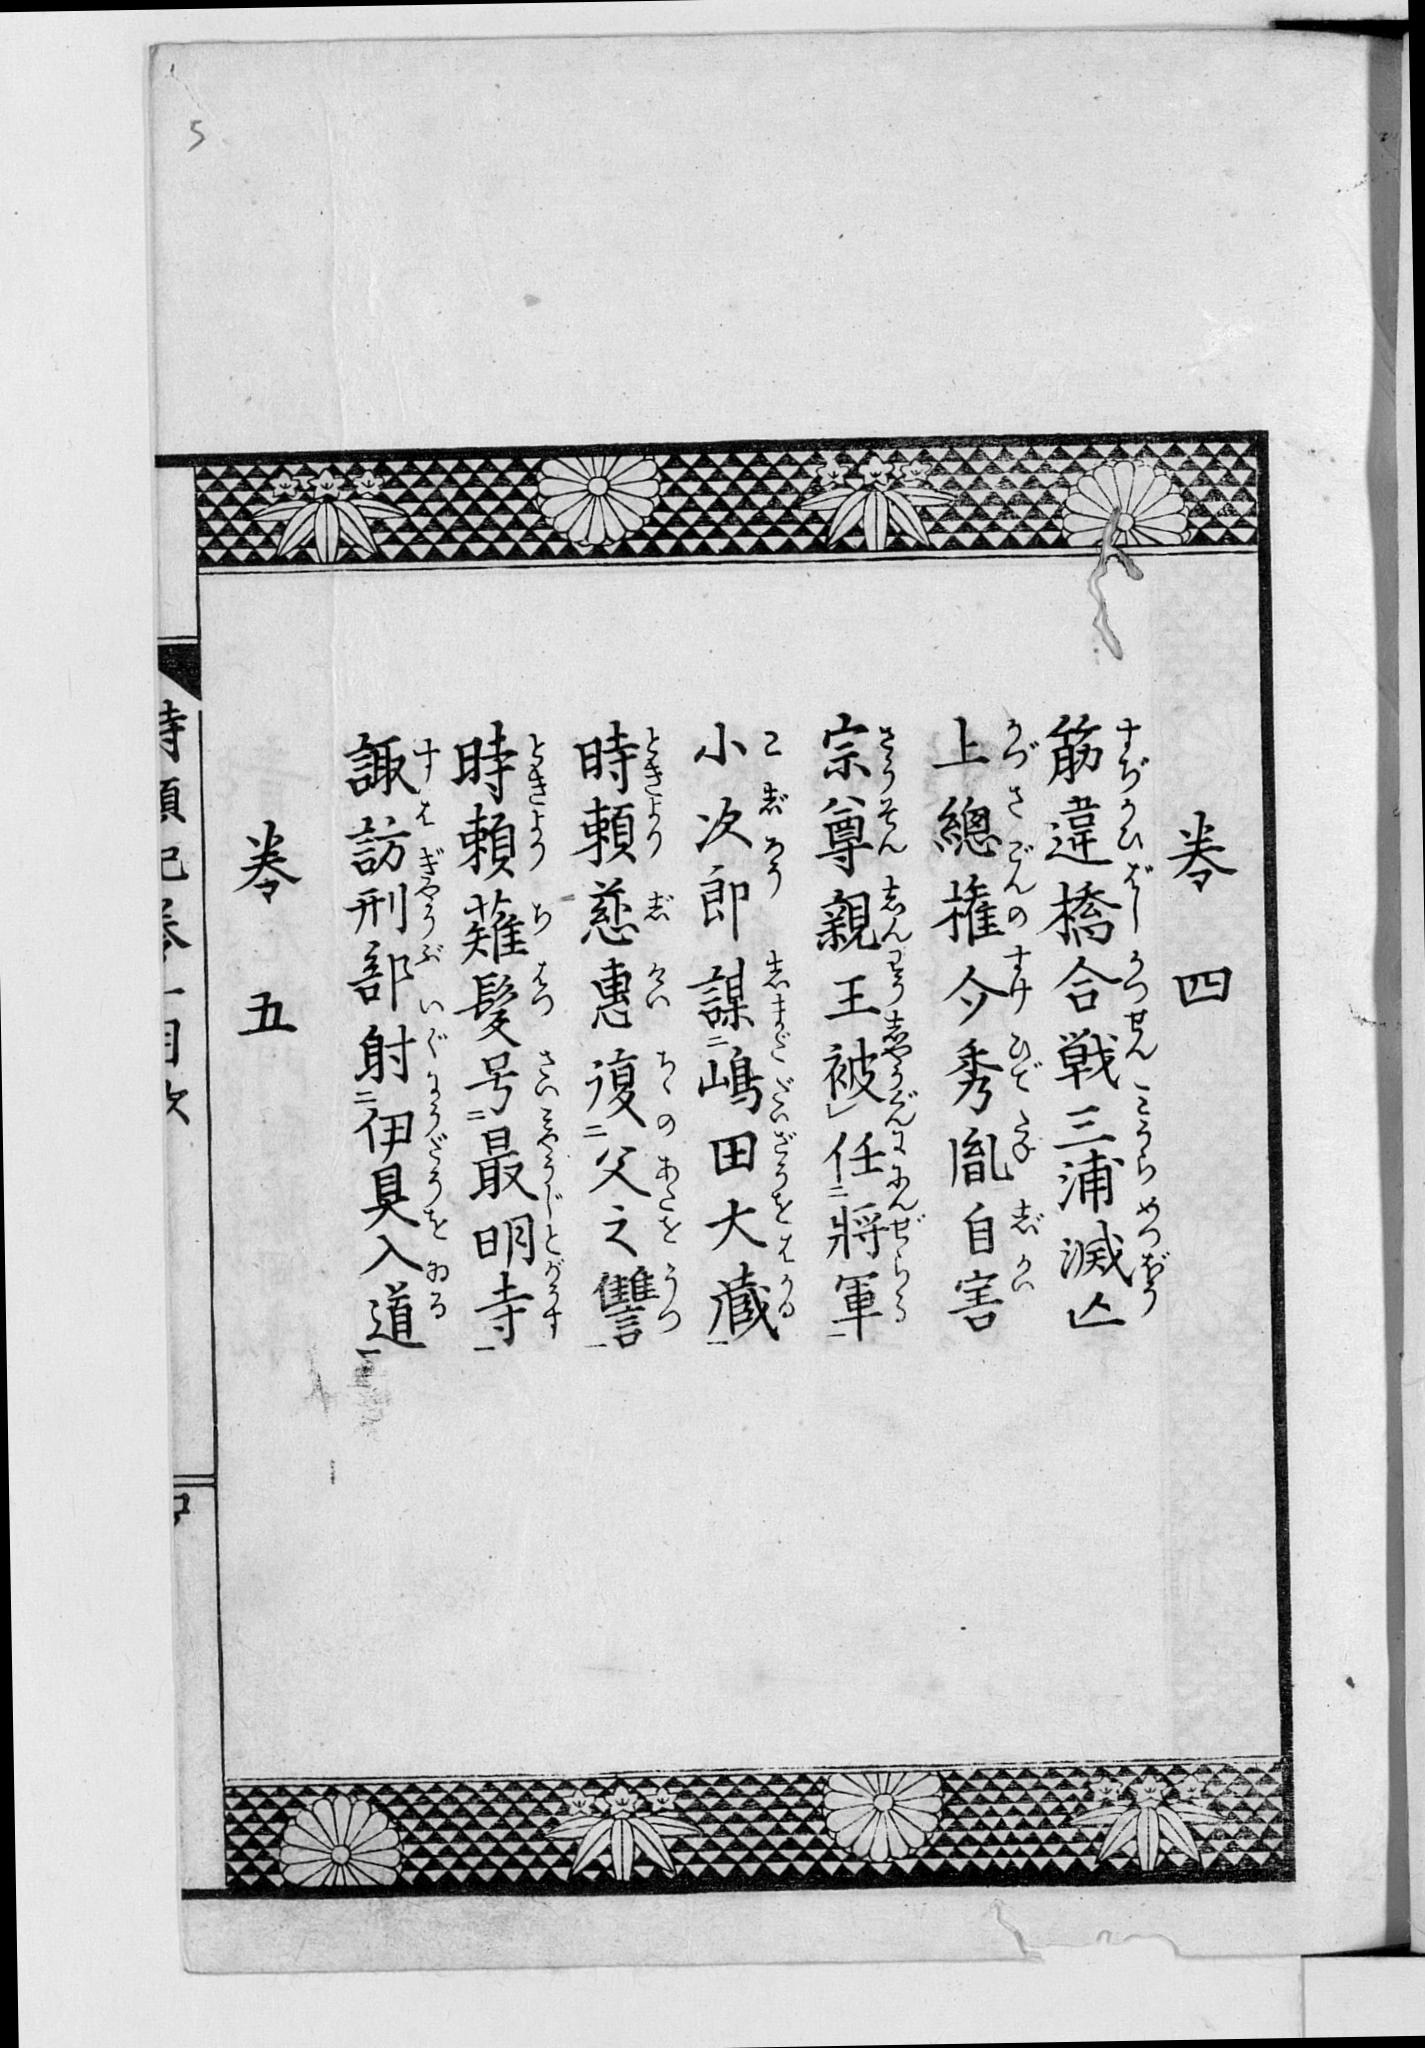MainZone-Character: (681, 949, 798, 1060), (677, 836, 795, 942), (456, 1106, 571, 1214), (823, 1012, 927, 1130), (930, 840, 1033, 942), (588, 1262, 695, 1357), (1039, 708, 1154, 795), (1041, 1010, 1164, 1091), (453, 963, 560, 1055), (695, 1259, 804, 1349), (1049, 1203, 1179, 1278), (678, 1049, 801, 1128), (585, 1046, 681, 1145), (468, 1257, 569, 1352), (1052, 1257, 1182, 1331), (1044, 867, 1157, 951), (820, 1127, 929, 1214), (801, 873, 916, 954), (937, 937, 1035, 1032), (451, 724, 557, 809), (450, 806, 557, 890), (688, 775, 798, 856), (1042, 1148, 1178, 1214), (811, 789, 915, 873), (1042, 1082, 1167, 1152), (342, 800, 450, 881), (944, 1029, 1045, 1114), (1042, 797, 1153, 873), (342, 945, 450, 1022), (949, 1253, 1044, 1340), (806, 711, 904, 795), (700, 1186, 804, 1264), (929, 781, 1036, 856), (571, 875, 675, 951), (1041, 948, 1159, 1015), (828, 1264, 918, 1351), (817, 948, 926, 1019), (569, 791, 669, 868), (568, 711, 667, 789), (580, 959, 675, 1040), (342, 725, 440, 803), (927, 710, 1039, 777), (454, 1050, 566, 1117), (356, 1164, 454, 1240), (350, 1027, 451, 1100), (817, 1201, 935, 1264), (585, 1144, 692, 1212), (457, 893, 562, 963), (944, 1186, 1044, 1256), (358, 1287, 454, 1359), (686, 1125, 797, 1187), (347, 1099, 456, 1161), (941, 1117, 1038, 1184), (347, 884, 450, 943), (692, 708, 789, 770), (464, 1214, 571, 1268), (353, 1233, 456, 1285), (593, 1200, 686, 1254)
MainZone-Ruby: (881, 1015, 918, 1125), (758, 954, 795, 1058), (999, 842, 1038, 929), (535, 1108, 566, 1214), (1106, 713, 1150, 786), (404, 803, 445, 875), (874, 873, 912, 948), (411, 945, 446, 1022), (997, 945, 1039, 1010), (1134, 1247, 1173, 1315), (417, 1169, 451, 1240), (1119, 861, 1153, 931), (1005, 1030, 1041, 1097), (769, 1184, 801, 1256), (999, 714, 1039, 772), (887, 1131, 916, 1209), (874, 797, 909, 864), (521, 728, 552, 801), (652, 1265, 681, 1337), (418, 1029, 450, 1096), (1120, 1010, 1156, 1068), (541, 1259, 566, 1341), (876, 717, 904, 791), (765, 1069, 801, 1125), (655, 1050, 677, 1138), (1112, 798, 1148, 851), (1117, 956, 1153, 1005), (769, 1131, 803, 1183), (1128, 1083, 1157, 1142), (885, 1211, 926, 1253), (761, 837, 787, 900), (526, 809, 552, 871), (641, 721, 666, 784), (422, 1102, 450, 1158), (775, 1267, 800, 1327), (1008, 1195, 1042, 1239), (529, 1055, 562, 1100), (653, 1152, 678, 1211), (639, 962, 670, 1008), (1140, 1194, 1168, 1245), (758, 716, 786, 767), (1008, 1116, 1038, 1164), (881, 954, 910, 1002), (411, 733, 442, 778), (529, 966, 555, 1019), (641, 794, 663, 857), (888, 1267, 912, 1326), (524, 893, 555, 937), (414, 882, 439, 937), (755, 778, 786, 820), (644, 885, 674, 926), (1007, 1262, 1038, 1293), (543, 1219, 568, 1257), (1133, 1153, 1164, 1183), (422, 1253, 451, 1284), (1000, 781, 1025, 817), (656, 1217, 683, 1248), (425, 1292, 446, 1323)
